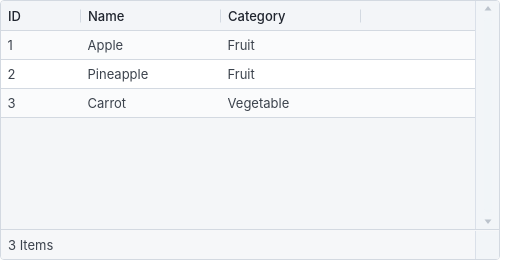
Test case: BGrid search and context menu › opens with Ctrl+F, highlights matches and cycles with Enter and Shift+Enter
Press f
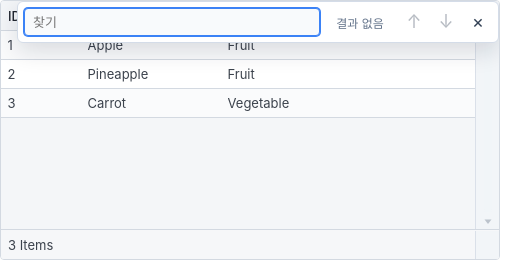
Type "apple" into the field named "그리드 데이터 찾기" at (172, 22), box [24,8,320,36]
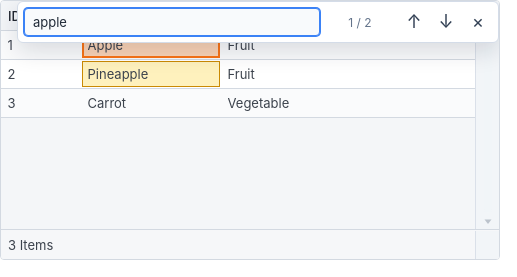
Press Enter in the field named "그리드 데이터 찾기", box [24,8,320,36]
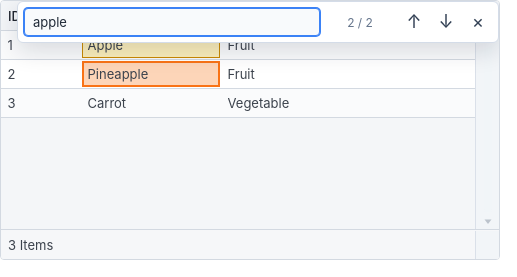
Press Enter in the field named "그리드 데이터 찾기", box [24,8,320,36]
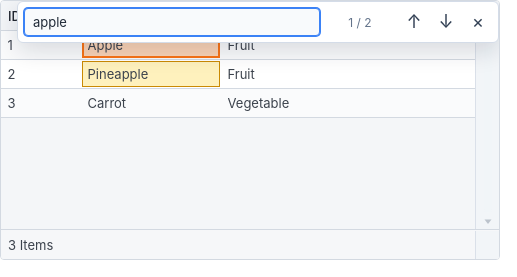
Press Escape in the field named "그리드 데이터 찾기", box [24,8,320,36]
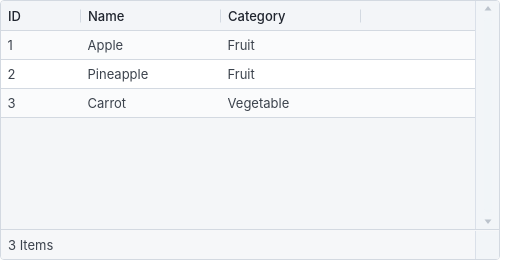
Now the field labelled "그리드 데이터 찾기" is gone
